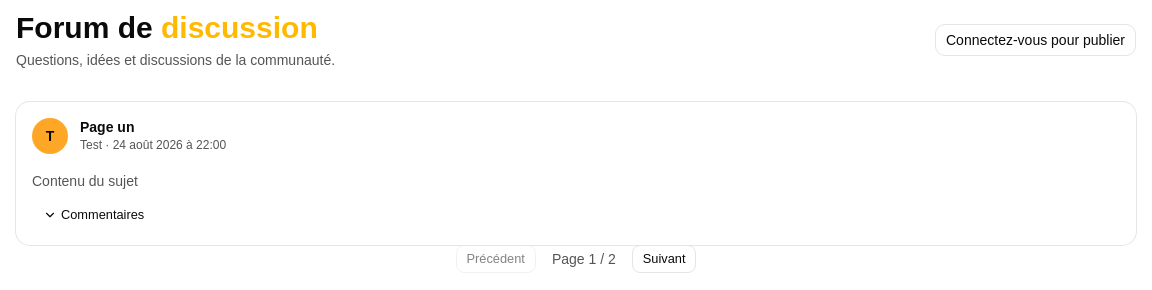
Test: Forum page › paginates forward and back
Click the button "Suivant".
click(664, 259)  # box x1=632 y1=245 x2=696 y2=273
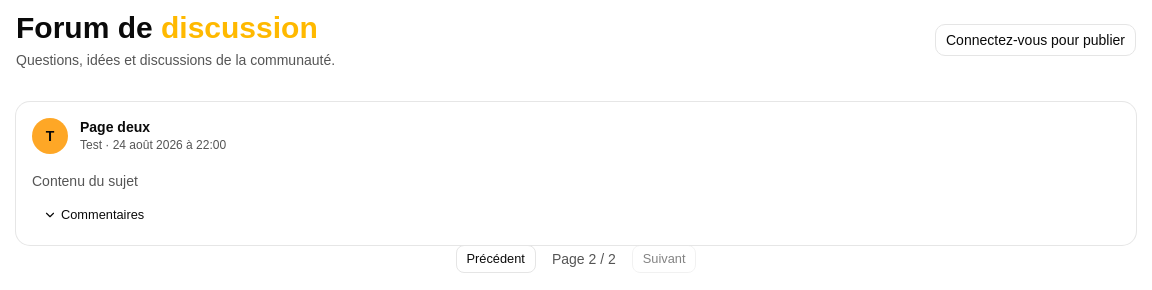
Expected: the heading "Page deux" is shown, x1=80 y1=119 x2=150 y2=135
